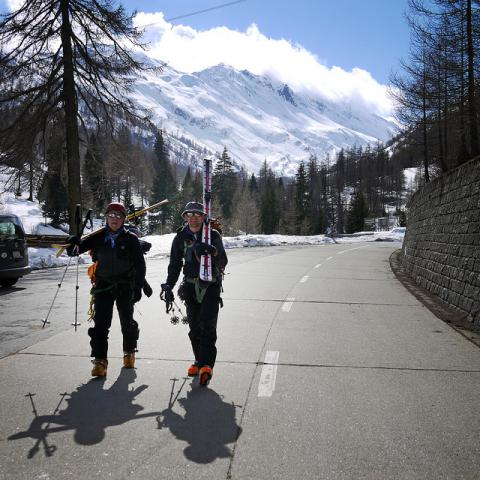car: (1, 213, 33, 286)
